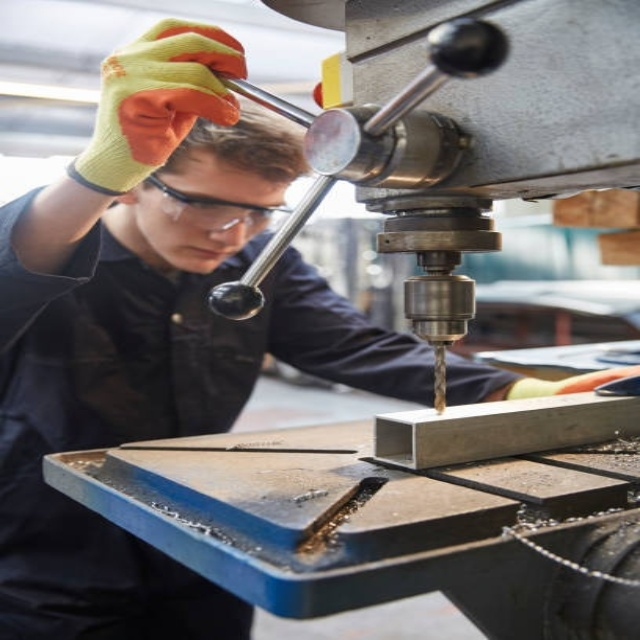Gafas: (143, 172, 289, 233)
Guantes: (71, 19, 249, 193), (504, 365, 637, 400)
Sin_mascara: (169, 236, 240, 272)
